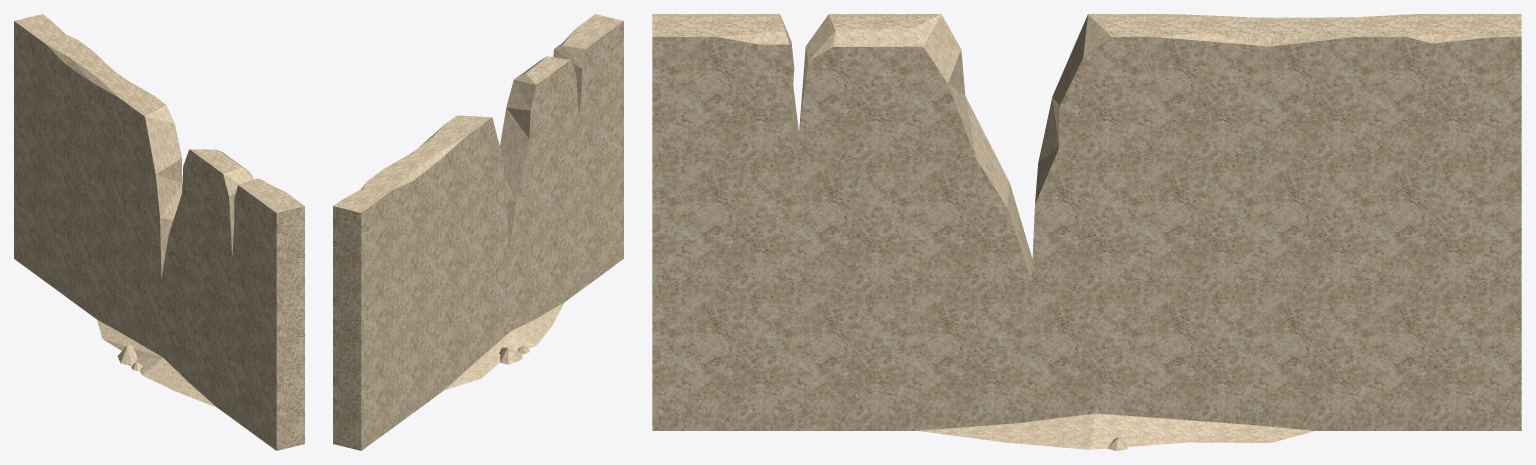
Rendered from thm_tato_imprv_wall_cleft_s01_l1.fbx.
3 views of the same model, side by side, from view 1: azimuth 30°, elevation 25°; view 2: azimuth 150°, elevation 25°; view 3: azimuth 270°, elevation 25° (orthographic). The views are drawn at different scales.
Visible parts, largest first — view 1: mesh_node; view 2: mesh_node; view 3: mesh_node.
Part boxes in pixels (box(x1,y1,x2,y2)): mesh_node: box(14, 14, 304, 450); mesh_node: box(333, 14, 623, 450); mesh_node: box(652, 14, 1521, 450).
Bounding box in the file's own units: 1.41 × 4.02 × 8.
